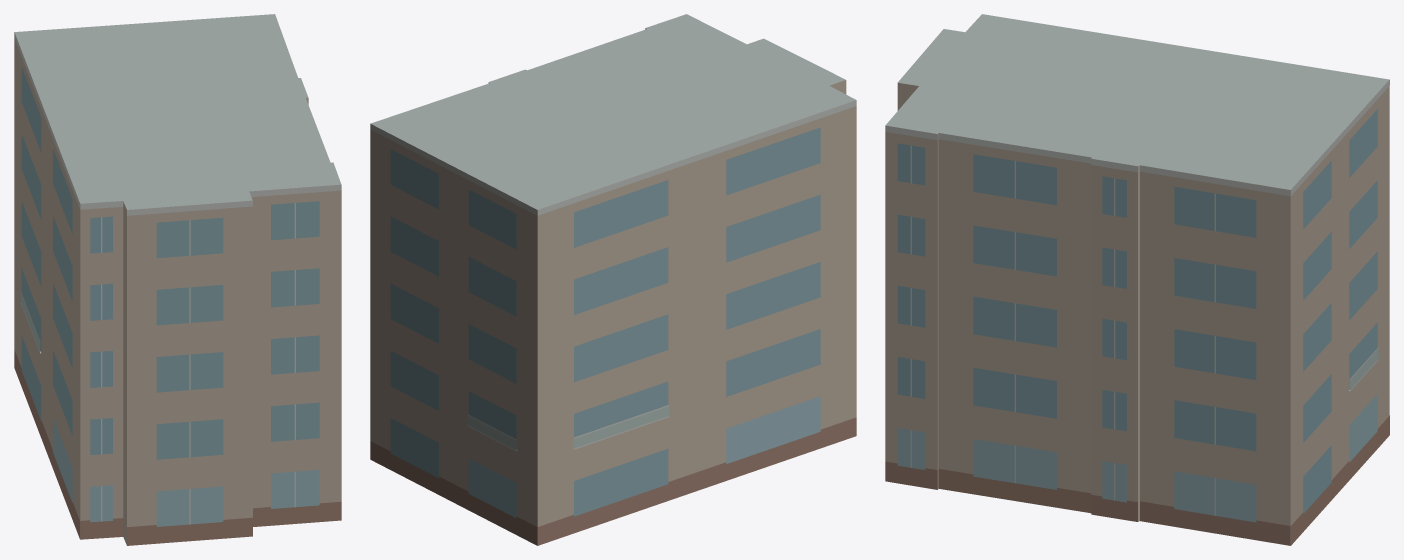
The model's file is survey-upis-32873536.glb.
3 renders of one model, left to right at view 1: azimuth 30°, elevation 25°; view 2: azimuth 150°, elevation 25°; view 3: azimuth 270°, elevation 25°, orthographic. The views are drawn at different scales.
Parts seen in each view (by area): view 1: survey-upis-32873536.tmp; view 2: survey-upis-32873536.tmp; view 3: survey-upis-32873536.tmp.
Boxes of the visible parts, bbox=[...] form: survey-upis-32873536.tmp: bbox=[14, 14, 341, 545]; survey-upis-32873536.tmp: bbox=[370, 14, 856, 545]; survey-upis-32873536.tmp: bbox=[885, 14, 1389, 545].
Size of the model in its own units: 14.87 by 14 by 18.
